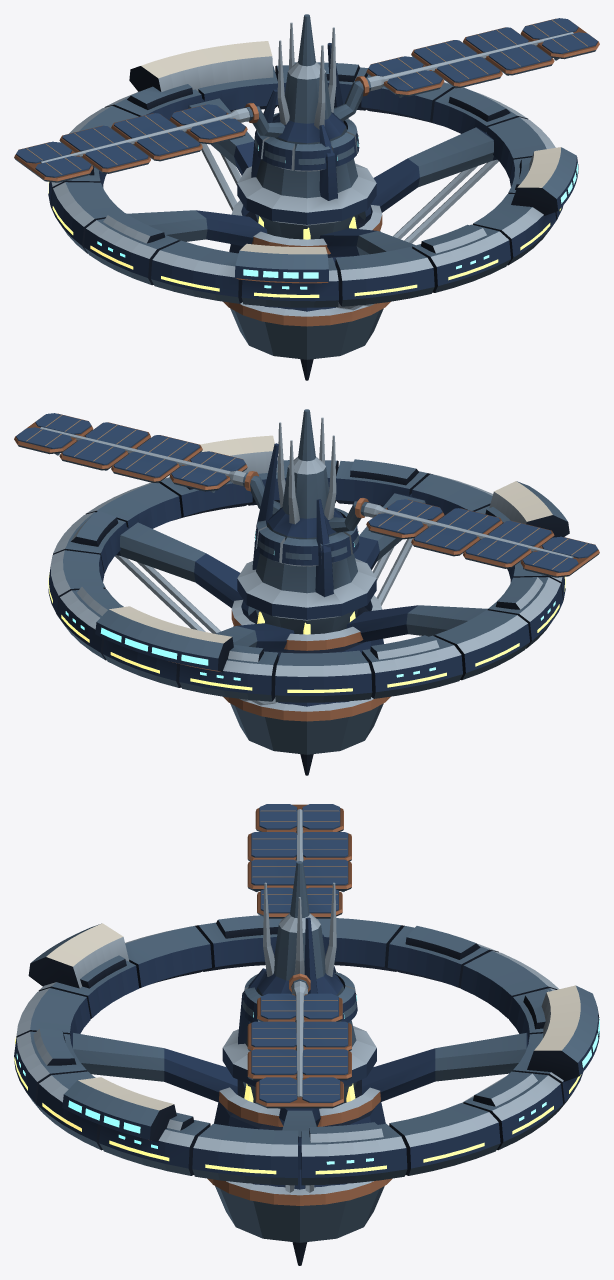
The model's file is relay-crown.glb.
The picture shows the model from 3 angles, top to bottom: view 1: azimuth 30°, elevation 25°; view 2: azimuth 150°, elevation 25°; view 3: azimuth 270°, elevation 25°; orthographic projection. The views are drawn at different scales.
Parts seen in each view (by area): view 1: Habitat rotor, Relay core, Sun tracker; view 2: Habitat rotor, Relay core, Sun tracker; view 3: Habitat rotor, Sun tracker, Relay core.
Boxes of the visible parts, x1,y1,x2,y2 form: Habitat rotor: (48,41,578,326); Relay core: (229,14,383,380); Sun tracker: (14,18,599,182); Habitat rotor: (48,435,569,721); Relay core: (230,409,383,775); Sun tracker: (14,413,599,577); Habitat rotor: (14,915,599,1205); Sun tracker: (247,804,351,1108); Relay core: (214,861,385,1265).
Bounding box in the file's own units: 11.41 × 7.15 × 9.43.
